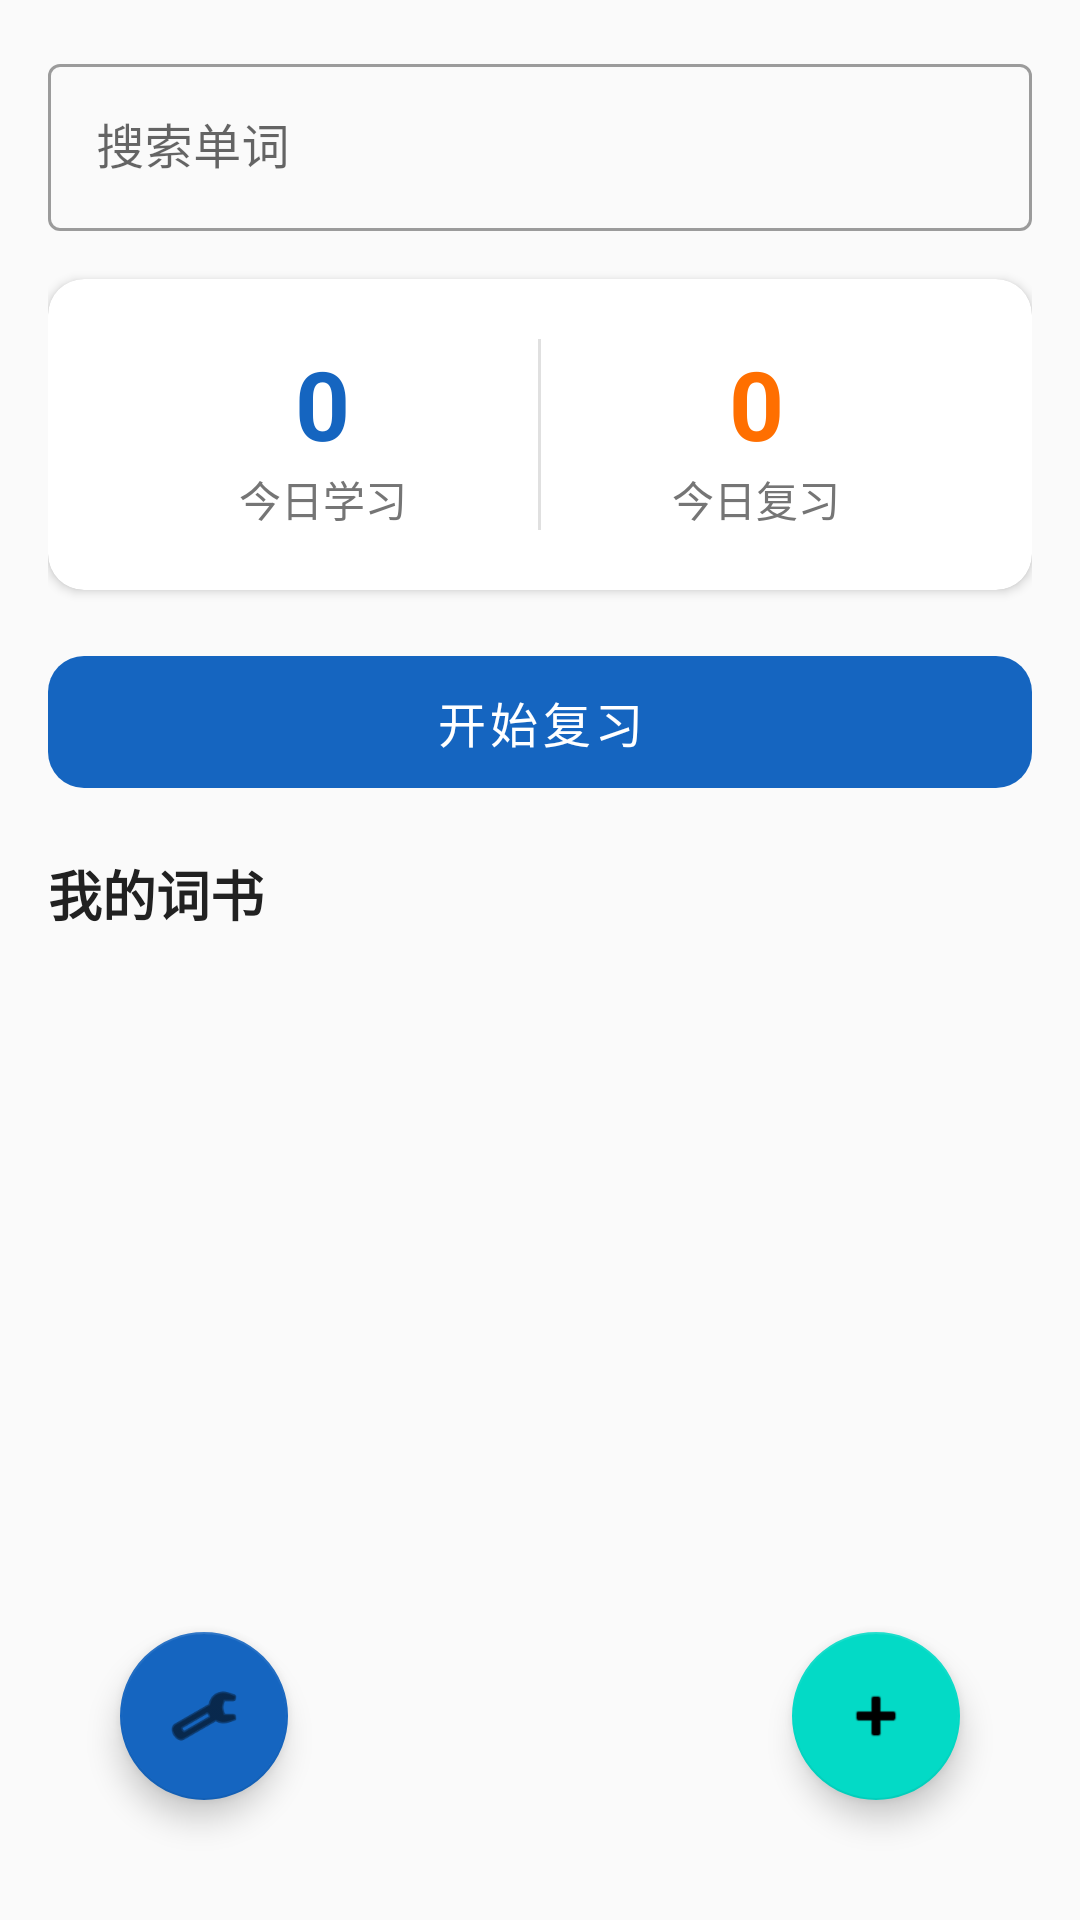

Where to tap for icons on this 1080w x 1920h app screen, as [x,y]:
新建词书: [876,1716]
设置 API Key: [204,1716]
